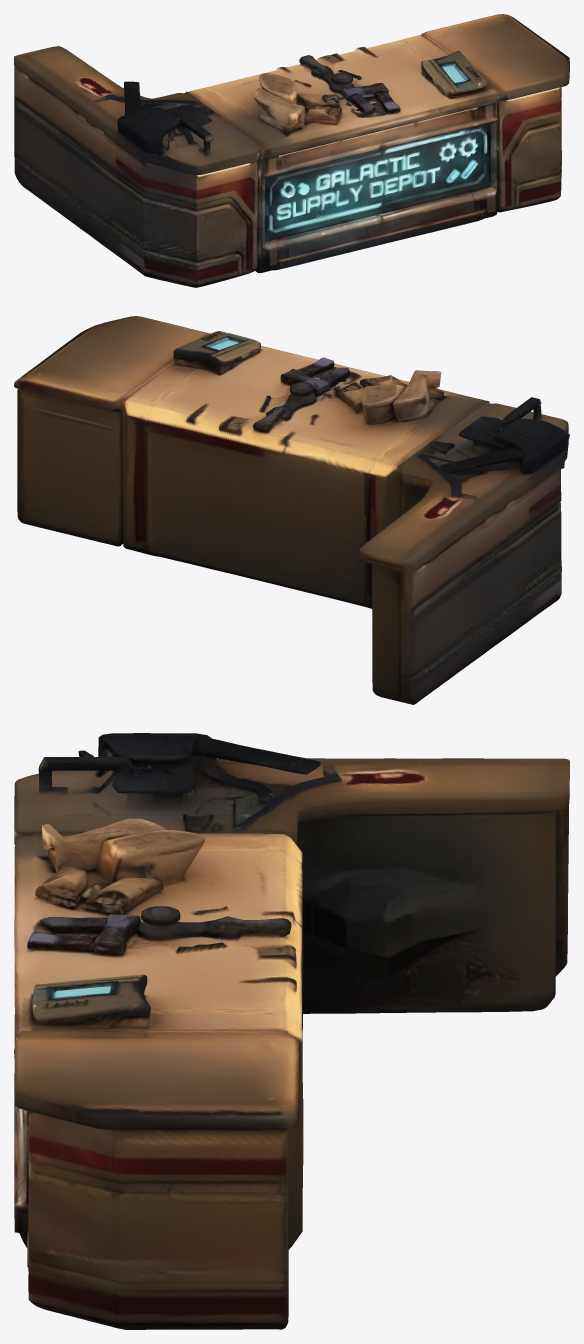
File: lod_basic_shaded.fbx
3 renders of one model, top to bottom at view 1: azimuth 30°, elevation 25°; view 2: azimuth 150°, elevation 25°; view 3: azimuth 270°, elevation 25°, orthographic. The views are drawn at different scales.
Parts seen in each view (by area): view 1: model_LOD0; view 2: model_LOD0; view 3: model_LOD0.
Part boxes in pixels (bbox=[...]): model_LOD0: bbox=[14, 14, 569, 287]; model_LOD0: bbox=[14, 316, 569, 704]; model_LOD0: bbox=[14, 733, 569, 1329].
Size of what is drawn, in the model's own units: 190 by 65.79 by 125.
